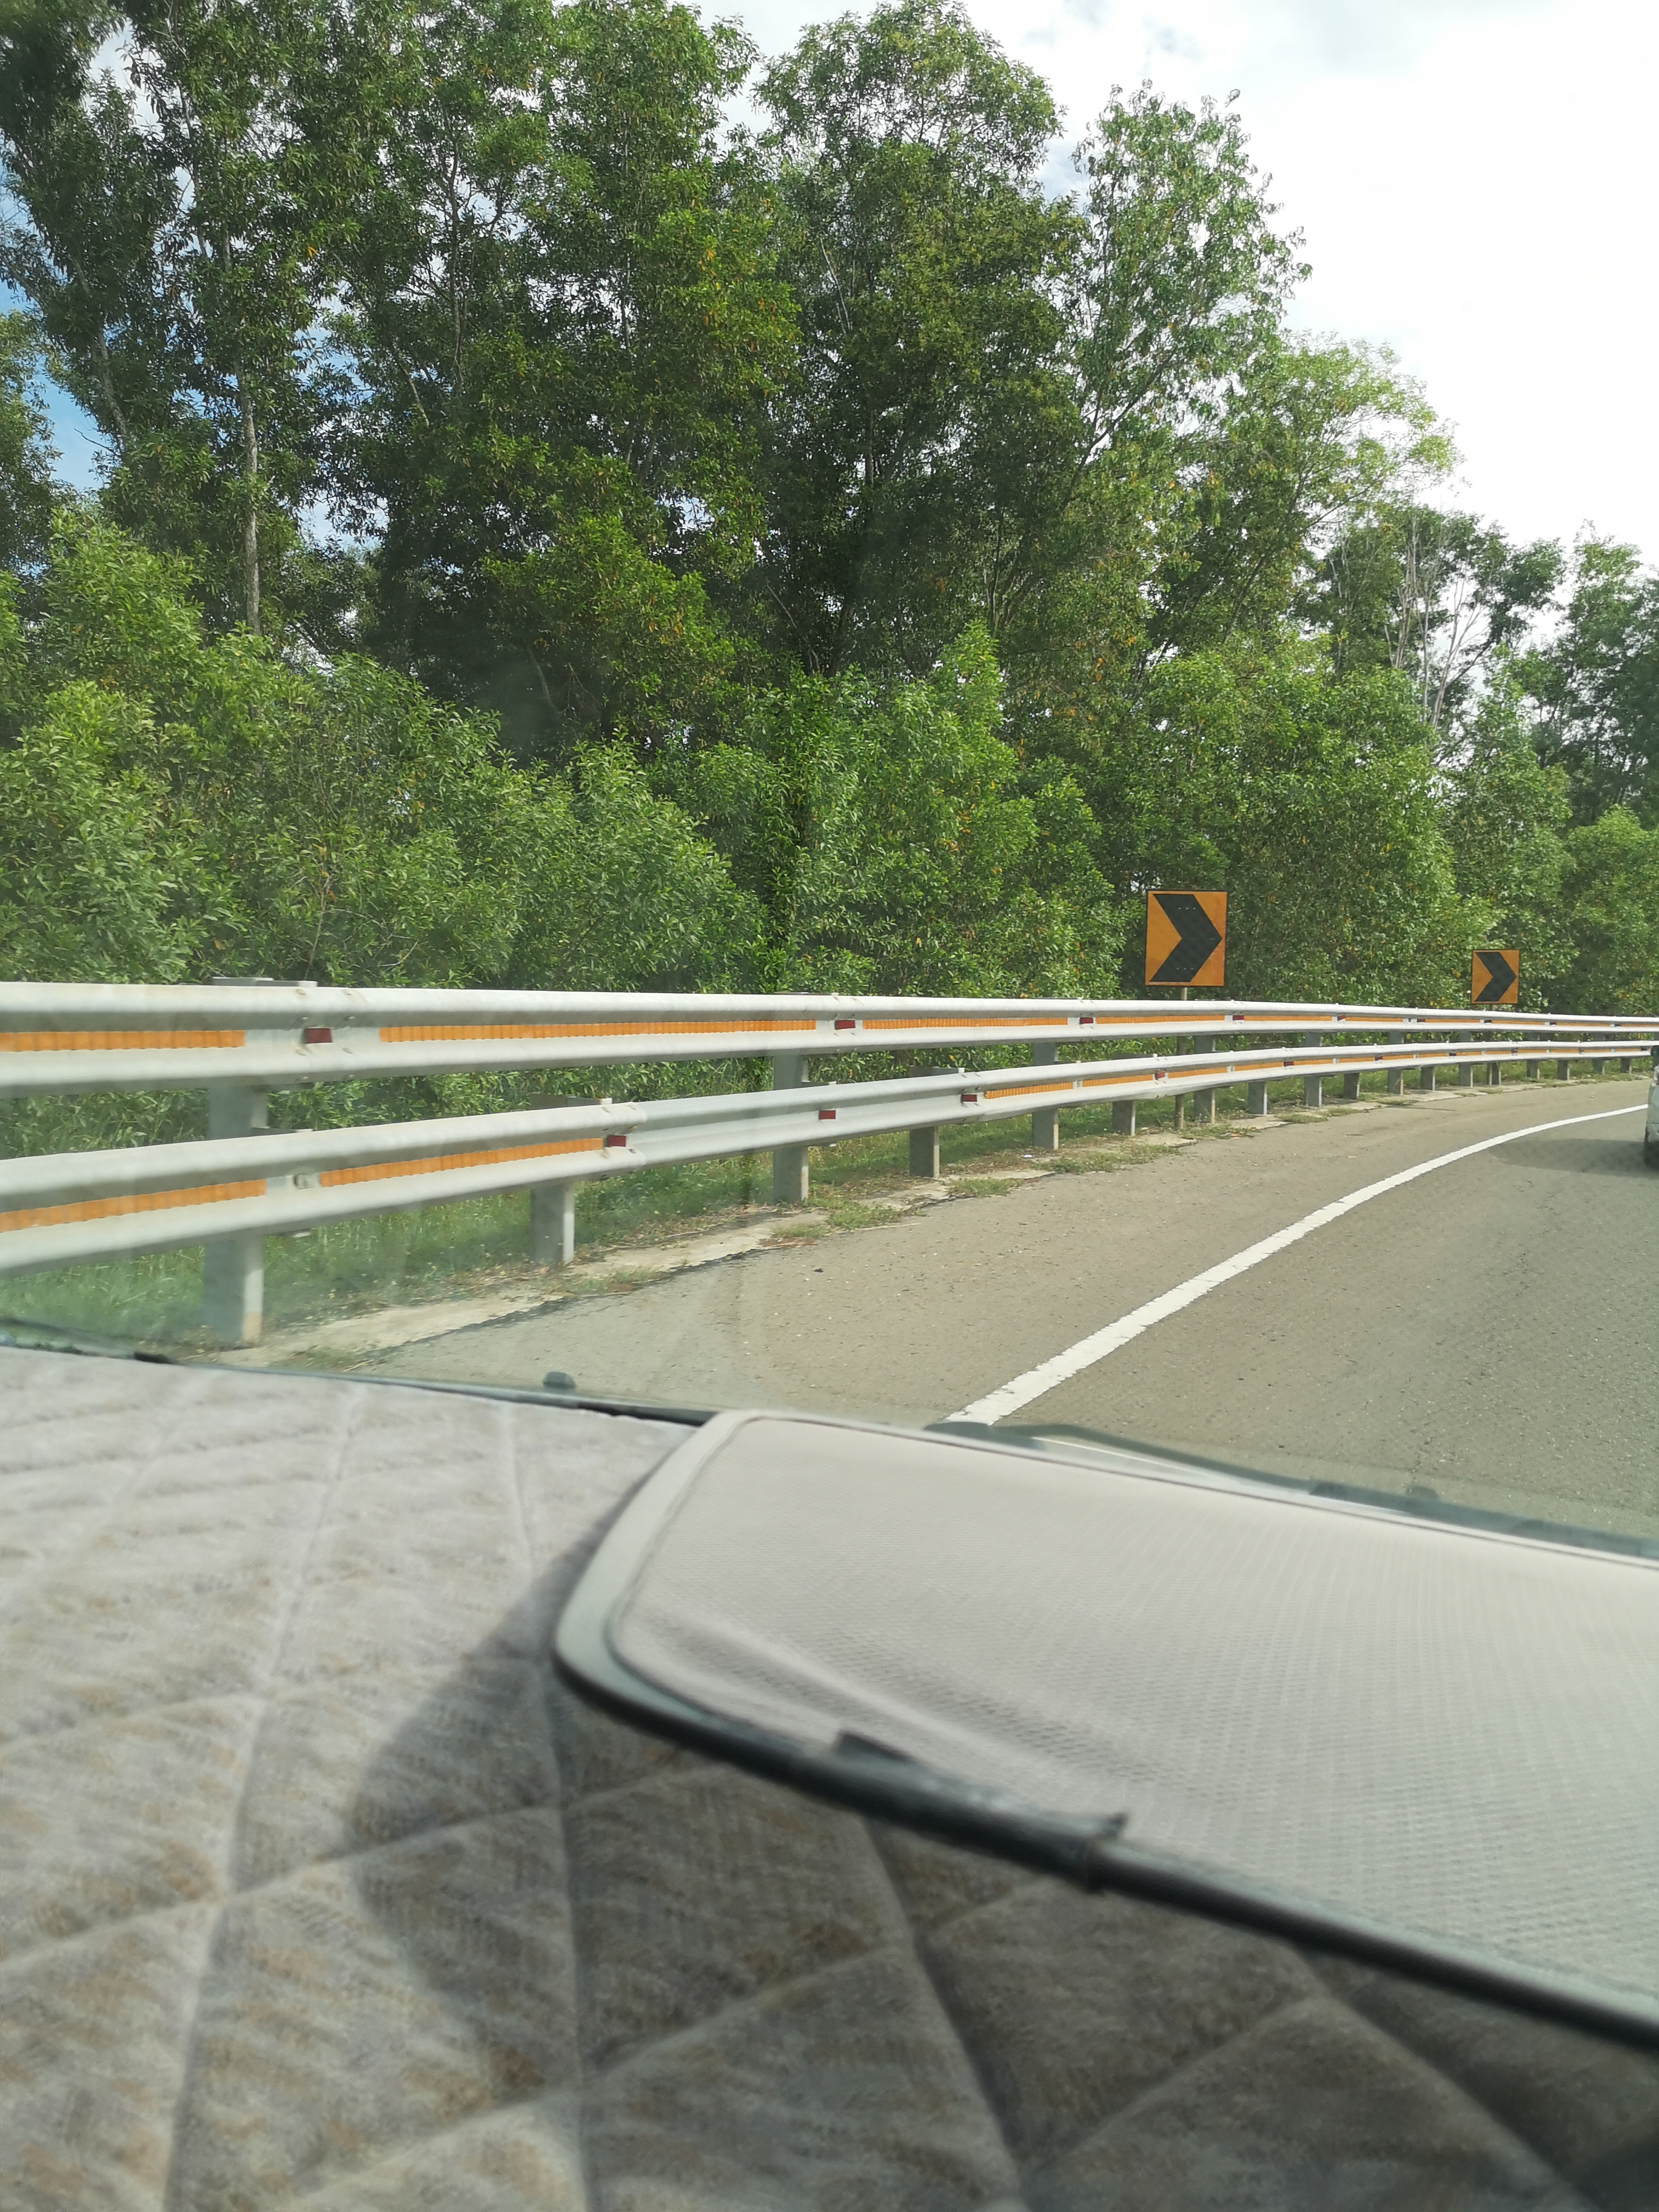chevron: (1136, 880, 1227, 1000), (1469, 946, 1530, 1019)
